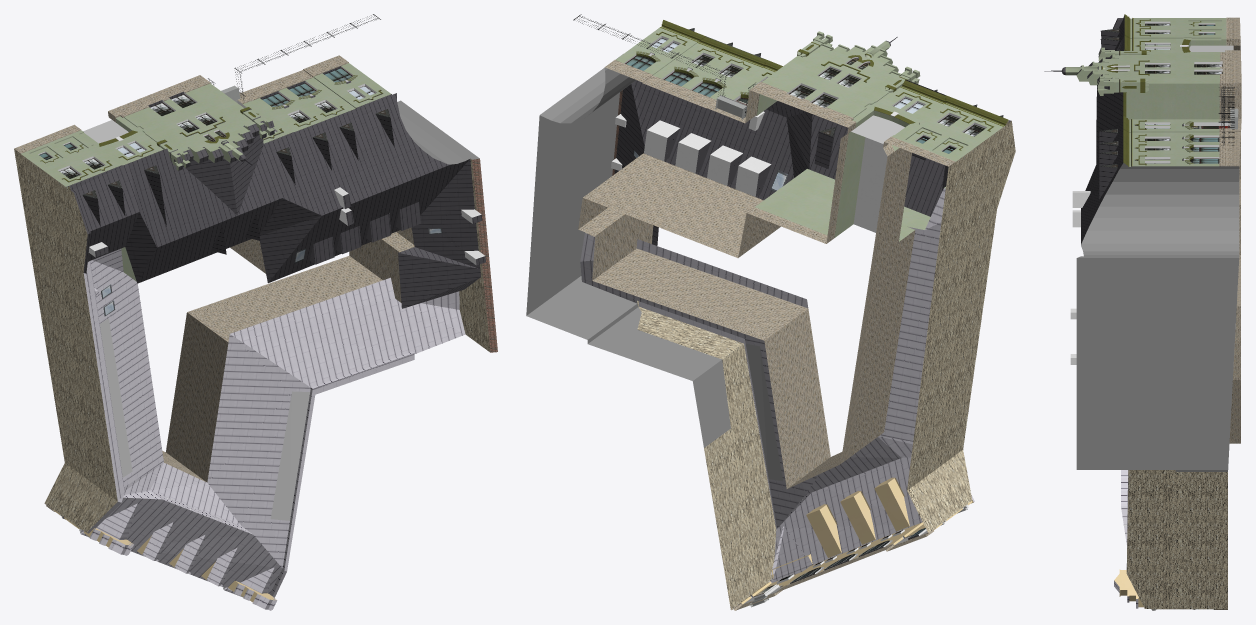
The model's file is Nunne_16.obj.
3 views of the same model, side by side, from view 1: azimuth 30°, elevation 25°; view 2: azimuth 150°, elevation 25°; view 3: azimuth 270°, elevation 25° (orthographic). The views are drawn at different scales.
Parts seen in each view (by area): view 1: Nunne_16; view 2: Nunne_16; view 3: Nunne_16.
Part boxes in pixels (<box>): Nunne_16: <box>14,14,497,610</box>; Nunne_16: <box>526,14,1015,610</box>; Nunne_16: <box>1044,14,1241,610</box>.
Size of the model in its own units: 39.87 by 49.46 by 16.42.
